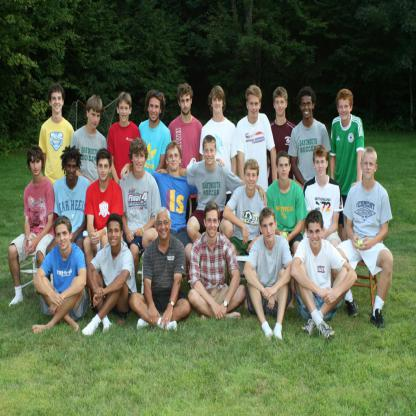face: (56, 224, 70, 251), (309, 222, 323, 249), (262, 217, 276, 243), (157, 213, 170, 240), (108, 222, 122, 247), (207, 210, 219, 238), (364, 153, 376, 180), (149, 98, 161, 122), (279, 157, 291, 181), (246, 166, 258, 190), (133, 151, 146, 173), (99, 158, 111, 181), (169, 149, 181, 172), (204, 143, 216, 165), (249, 94, 260, 118), (339, 99, 351, 121), (302, 97, 313, 120), (315, 156, 327, 177), (90, 107, 101, 129), (67, 158, 78, 180), (181, 94, 192, 116), (31, 156, 43, 176), (52, 92, 63, 112), (120, 100, 130, 122), (212, 94, 223, 114), (275, 97, 286, 116)
